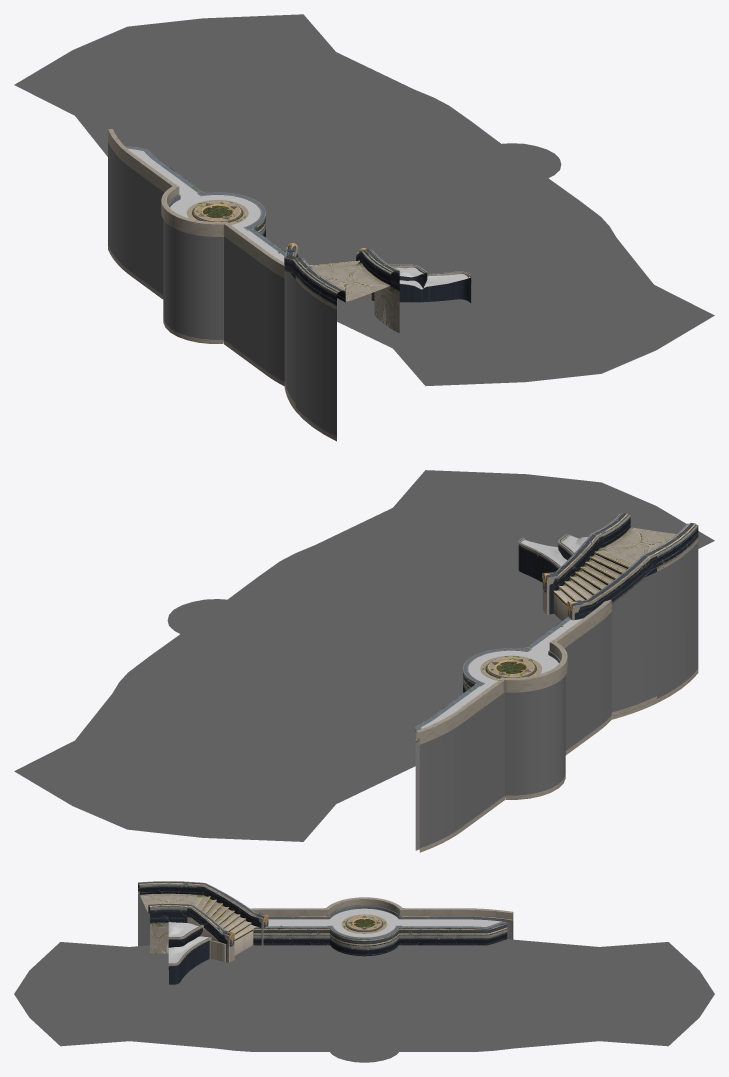
3 views of the same model, one above another, from view 1: azimuth 30°, elevation 25°; view 2: azimuth 150°, elevation 25°; view 3: azimuth 270°, elevation 25° (orthographic). The views are drawn at different scales.
Visible parts, largest first — view 1: ground1, EG_Courtyard_Ledges, EG_Ring_Segment2, EG_Ring_Plants_Ledges, EG_Ring_Segment_Stairs, EG_Courtyard_Water, EG_Courtyard_Ledges_Tree, EG_Tree_Base; view 2: ground1, EG_Courtyard_Ledges, EG_Ring_Segment_Stairs, EG_Ring_Segment2, EG_Courtyard_Ledges_Tree, EG_Courtyard_Water, EG_Ring_Plants_Ledges, EG_Tree_Base; view 3: ground1, EG_Courtyard_Ledges, EG_Ring_Segment_Stairs, EG_Ring_Segment2, EG_Courtyard_Water, EG_Ring_Plants_Ledges, EG_Courtyard_Ledges_Tree, EG_Tree_Base.
Part boxes in pixels (x1=…): ground1: x1=14, y1=14, x2=714, y2=386; EG_Courtyard_Ledges: x1=108, y1=129, x2=285, y2=386; EG_Ring_Segment2: x1=295, y1=251, x2=399, y2=441; EG_Ring_Plants_Ledges: x1=365, y1=264, x2=471, y2=302; EG_Ring_Segment_Stairs: x1=284, y1=243, x2=373, y2=410; EG_Courtyard_Water: x1=127, y1=148, x2=284, y2=262; EG_Courtyard_Ledges_Tree: x1=161, y1=184, x2=266, y2=341; EG_Tree_Base: x1=186, y1=200, x2=248, y2=224; ground1: x1=14, y1=470, x2=714, y2=841; EG_Courtyard_Ledges: x1=414, y1=599, x2=611, y2=852; EG_Ring_Segment_Stairs: x1=542, y1=532, x2=656, y2=719; EG_Ring_Segment2: x1=595, y1=513, x2=698, y2=702; EG_Courtyard_Ledges_Tree: x1=462, y1=640, x2=567, y2=797; EG_Courtyard_Water: x1=421, y1=618, x2=582, y2=728; EG_Ring_Plants_Ledges: x1=518, y1=534, x2=587, y2=582; EG_Tree_Base: x1=480, y1=655, x2=542, y2=680; ground1: x1=14, y1=939, x2=714, y2=1062; EG_Courtyard_Ledges: x1=250, y1=908, x2=513, y2=956; EG_Ring_Segment_Stairs: x1=187, y1=882, x2=268, y2=962; EG_Ring_Segment2: x1=138, y1=881, x2=198, y2=954; EG_Courtyard_Water: x1=250, y1=908, x2=501, y2=937; EG_Ring_Plants_Ledges: x1=168, y1=922, x2=211, y2=984; EG_Courtyard_Ledges_Tree: x1=324, y1=897, x2=404, y2=939; EG_Tree_Base: x1=341, y1=914, x2=387, y2=933.
Bounding box in the file's own units: 1411 × 521 × 3001.
